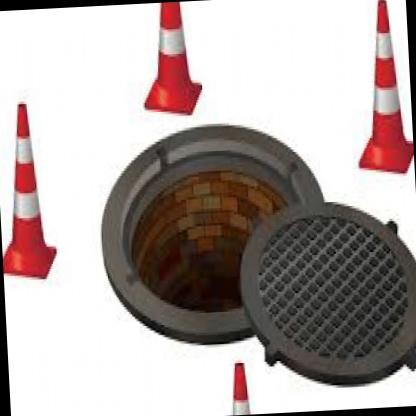manholes: (70, 63, 416, 416)
